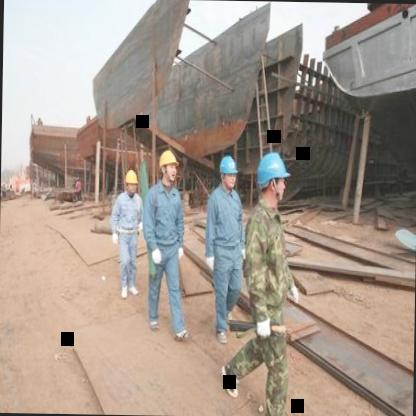helmet: (252, 147, 290, 209), (158, 145, 178, 187), (216, 154, 237, 192), (123, 167, 140, 195)
